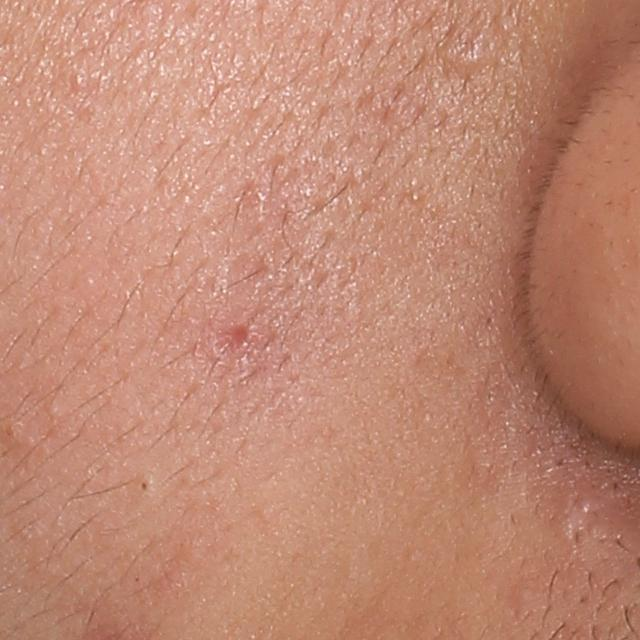comedo: (451, 42, 492, 79), (132, 472, 159, 501), (49, 401, 64, 422)
